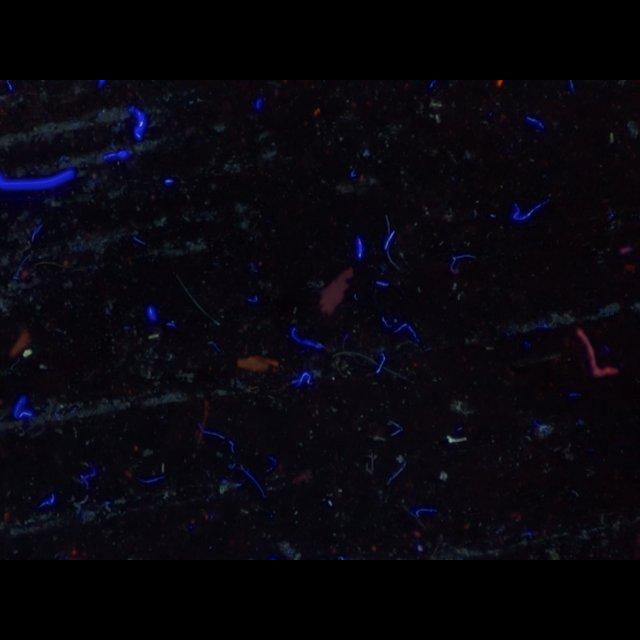Fibre: (448, 251, 478, 273)
